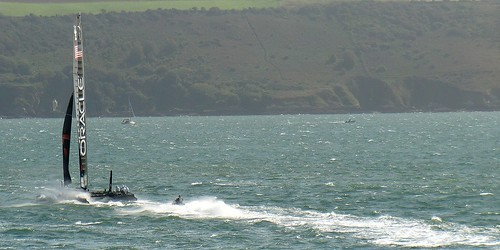boat: (50, 16, 145, 209)
sea: (3, 117, 500, 250)
